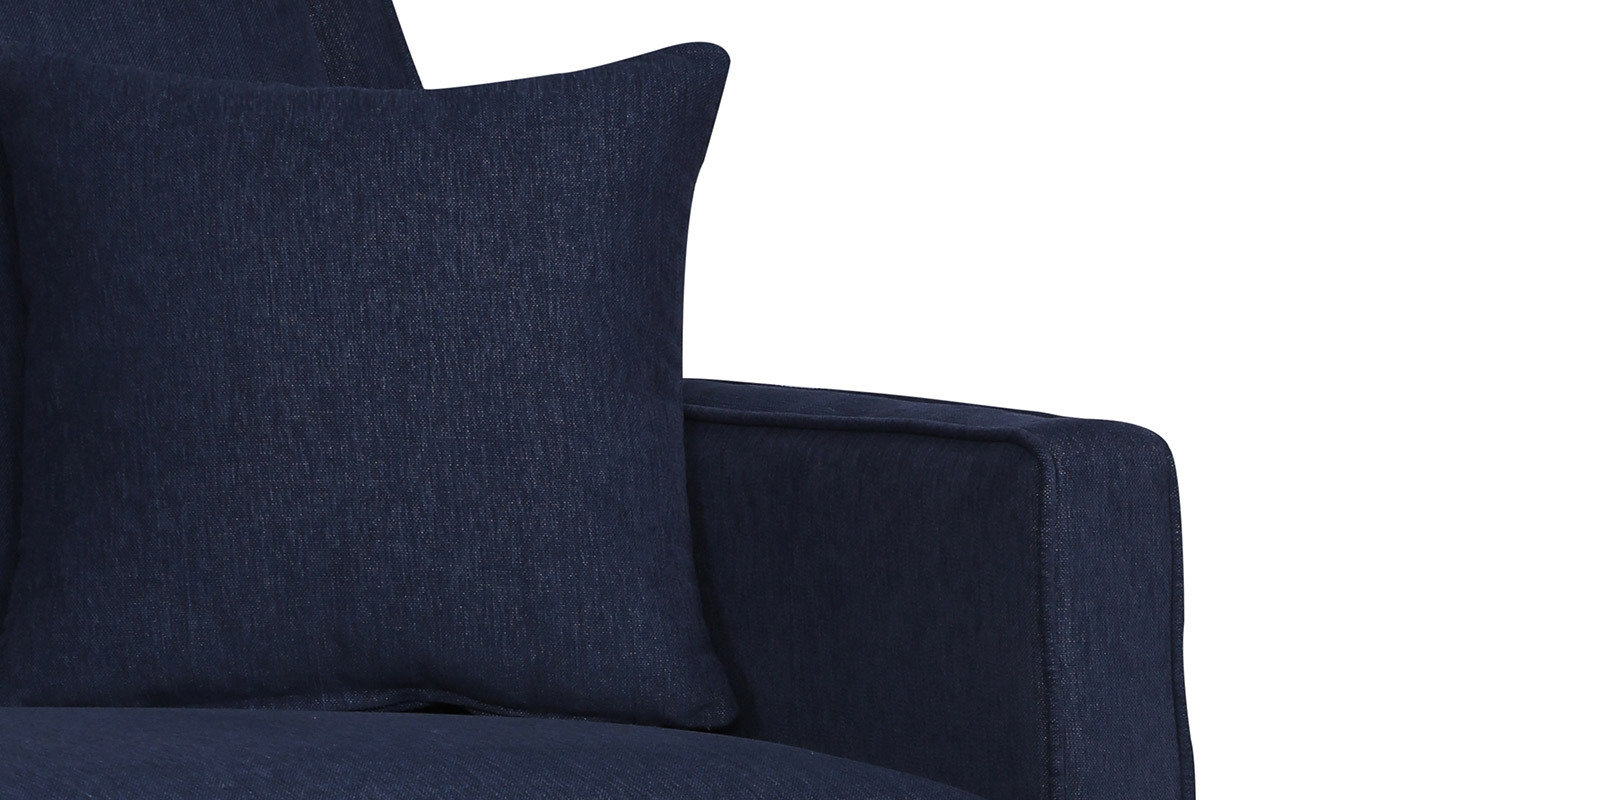Oscar Three Seater Sofa in Navy Blue Colour by CasaCraft: (1, 1, 1196, 800)
